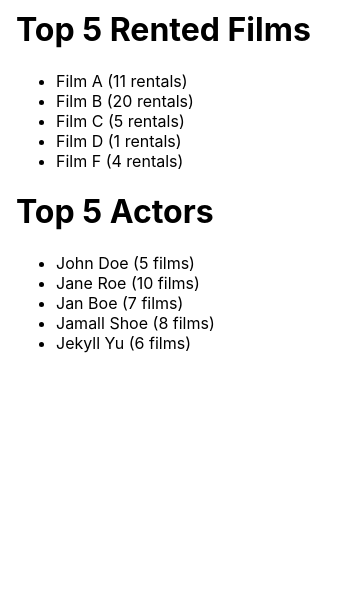
Test: <Home /> › fetches and displays film details when a film is clicked
The width and height of the screenshot is (356, 603).
# Click on the first film title
Click the list item "Film A (11 rentals)" at (122, 81), box [56,71,188,91]
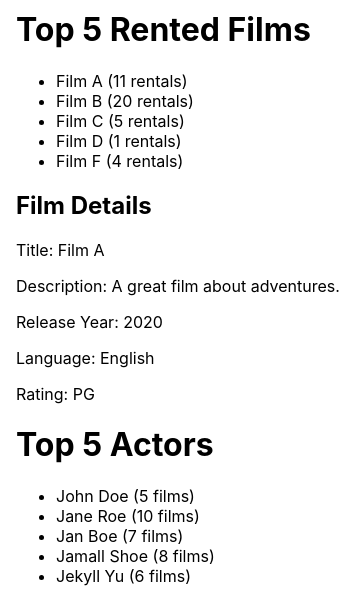
expect the heading "Film Details" is shown: met, box [16,191,152,220]
